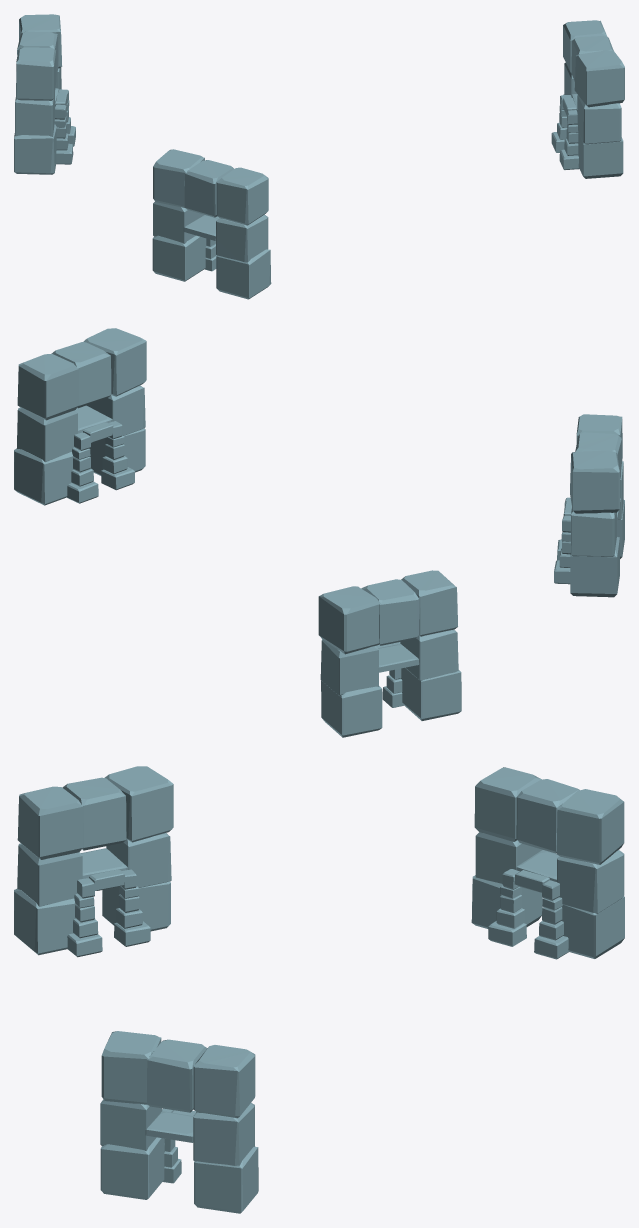
File: Stage_1_Puzzle_Gates.fbx
3 views of the same model, one above another, from view 1: azimuth 30°, elevation 25°; view 2: azimuth 150°, elevation 25°; view 3: azimuth 270°, elevation 25° (orthographic). The views are drawn at different scales.
Parts seen in each view (by area): view 1: Left_Entrance_2, Left_Entrance, Left_Entrance_1; view 2: Left_Entrance, Left_Entrance_1, Left_Entrance_2; view 3: Left_Entrance_2, Left_Entrance_1, Left_Entrance.
Part boxes in pixels (x1,y1,x2,y2): Left_Entrance_2: (152, 149, 271, 299); Left_Entrance: (551, 20, 624, 178); Left_Entrance_1: (14, 14, 75, 174); Left_Entrance: (14, 328, 146, 505); Left_Entrance_1: (318, 570, 461, 737); Left_Entrance_2: (554, 414, 624, 597); Left_Entrance_2: (14, 766, 173, 957); Left_Entrance_1: (471, 767, 624, 959); Left_Entrance: (100, 1031, 258, 1213).
Size of the model in its own units: 10055 by 2204 by 8434.
